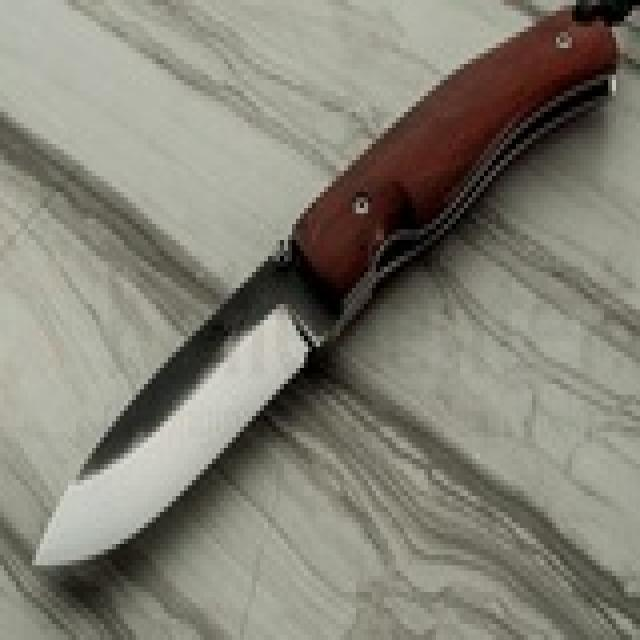Knife: (20, 9, 626, 588)
